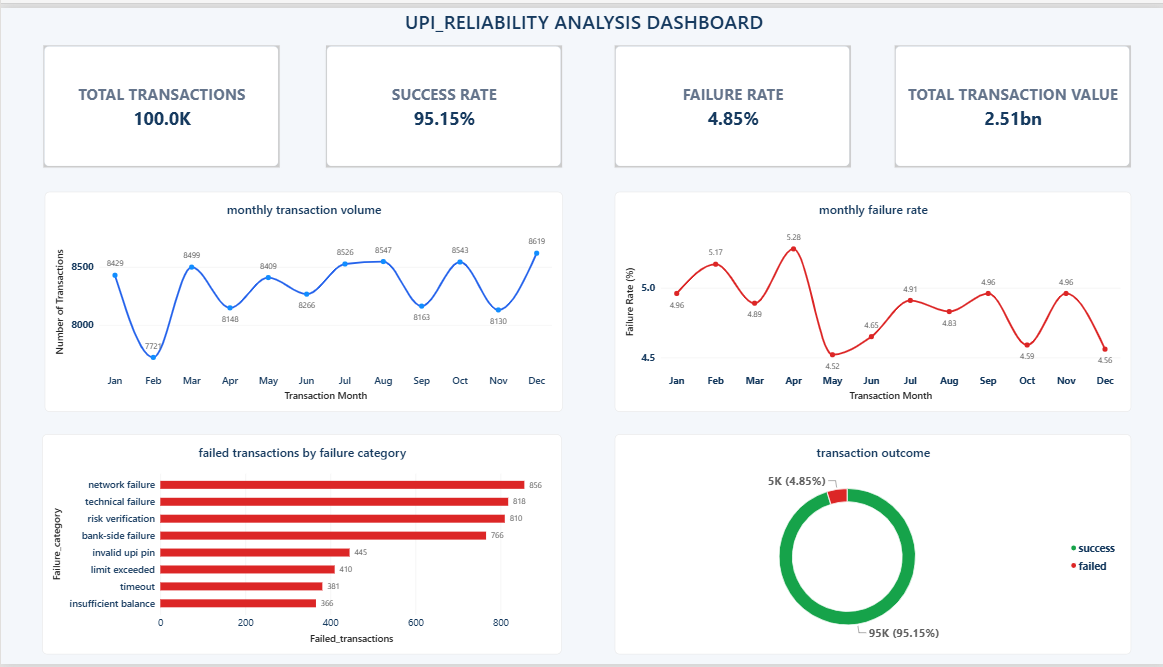

Layout of this report page (visuals, bound fields, positions):
{"tool":"powerbi","page":{"name":"executive_overview","canvas":[1920,1080],"ordinal":0},"visuals":[{"type":"cardVisual","fields":{"Data":["Sum(public vw_transaction_summary.total_transactions)"]},"box":[70.6,61.8,388.5,200.9],"z":0},{"type":"textbox","box":[-0.2,0,1920.4,83.2],"z":1000},{"type":"cardVisual","fields":{"Data":["Sum(public vw_transaction_summary.total_transaction_value)"]},"box":[1472.3,61.8,388.5,200.9],"z":2000},{"type":"cardVisual","fields":{"Data":["public vw_transaction_summary.success rate display"]},"box":[534.2,61.8,388.5,200.9],"z":3000},{"type":"cardVisual","fields":{"Data":["public vw_age_group_performance.failure rate display"]},"box":[1011,61.8,388.5,200.9],"z":4000},{"type":"lineChart","title":"monthly transaction volume","fields":{"Category":["public vw_monthly_performance.month name"],"Y":["Sum(public vw_monthly_performance.total_transactions)"]},"box":[71,303.1,852.5,362.3],"z":5000},{"type":"lineChart","title":"monthly failure rate","fields":{"Category":["public vw_monthly_performance.month name"],"Y":["Sum(public vw_monthly_performance.failure_rate)"]},"box":[1011.2,303.1,850.1,362.3],"z":6000},{"type":"clusteredBarChart","title":"failed transactions by failure category","fields":{"Category":["public vw_failure_analysis.failure_category"],"Y":["Sum(public vw_failure_analysis.failed_transactions)"]},"box":[68.7,700.9,854.9,362.3],"z":7000},{"type":"donutChart","title":"transaction outcome","fields":{"Category":["transaction outcome.status"],"Y":["transaction outcome.transaction outcome count"]},"box":[1011.2,700.9,850.1,362.3],"z":8000}]}

Visuals, with their boxes in screenshot pixels (x1, y1, x2, y2), scaled from the page's 1920x1080 canvas onto the 1163x667 screenshot:
cardVisual - Sum(public vw_transaction_summary.total_transactions): rect(43, 38, 278, 162)
textbox: rect(0, 0, 1162, 51)
cardVisual - Sum(public vw_transaction_summary.total_transaction_value): rect(892, 38, 1127, 162)
cardVisual - public vw_transaction_summary.success rate display: rect(324, 38, 559, 162)
cardVisual - public vw_age_group_performance.failure rate display: rect(612, 38, 848, 162)
"monthly transaction volume" lineChart: rect(43, 187, 559, 411)
"monthly failure rate" lineChart: rect(613, 187, 1127, 411)
"failed transactions by failure category" clusteredBarChart: rect(42, 433, 559, 657)
"transaction outcome" donutChart: rect(613, 433, 1127, 657)
